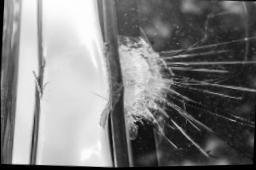Windshield: (113, 7, 256, 168)
